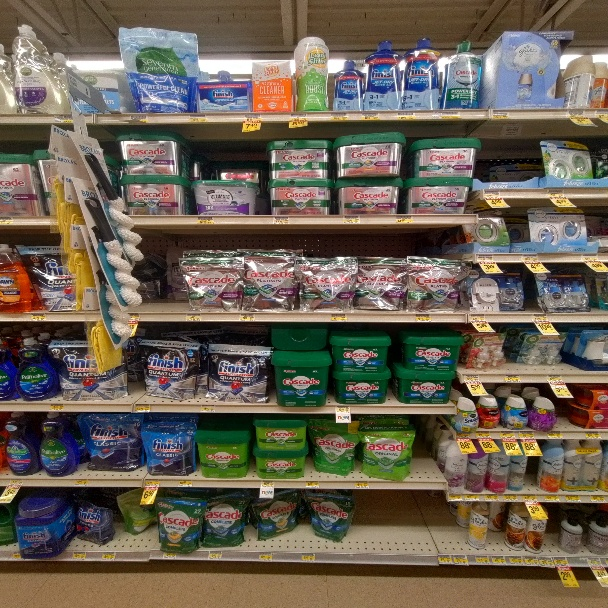All PRICE TAGS: (434, 111, 459, 120), (46, 402, 65, 412), (52, 114, 73, 123), (396, 111, 415, 120), (30, 312, 47, 322), (567, 109, 584, 118), (243, 114, 262, 122), (361, 112, 379, 120), (289, 113, 307, 121), (130, 115, 148, 123), (525, 555, 538, 566), (101, 551, 115, 561), (522, 254, 539, 262), (477, 254, 494, 262), (238, 314, 255, 322), (396, 216, 413, 224), (343, 216, 360, 224), (273, 216, 290, 224), (492, 111, 509, 119), (587, 557, 602, 566), (330, 113, 349, 120), (541, 556, 553, 567), (555, 556, 568, 566), (454, 554, 467, 564), (438, 554, 451, 564), (483, 493, 499, 501), (464, 374, 480, 382), (546, 374, 562, 382), (484, 190, 500, 198), (134, 404, 150, 412), (415, 314, 431, 322), (330, 314, 346, 322), (190, 115, 208, 122), (300, 552, 314, 561), (258, 552, 272, 561), (196, 217, 214, 224), (465, 493, 480, 501), (547, 431, 562, 439), (519, 431, 534, 439), (505, 375, 520, 383), (532, 313, 547, 321), (186, 313, 201, 321), (509, 555, 522, 564), (565, 495, 581, 502), (469, 314, 485, 321), (582, 254, 598, 261), (548, 190, 564, 197), (208, 552, 222, 560), (163, 551, 177, 559), (476, 555, 488, 564), (73, 551, 85, 560), (500, 431, 515, 438), (476, 431, 491, 438), (200, 405, 215, 412), (492, 556, 505, 564), (594, 109, 607, 117), (522, 494, 536, 501), (545, 495, 559, 502), (455, 432, 469, 439), (354, 481, 368, 488), (145, 479, 159, 486), (585, 432, 601, 438), (448, 493, 461, 500), (504, 494, 517, 501), (9, 479, 22, 486), (261, 481, 274, 488), (590, 496, 605, 502), (335, 407, 350, 413), (75, 479, 87, 486), (305, 481, 318, 487), (178, 481, 191, 487), (130, 313, 139, 321), (12, 551, 20, 560)
